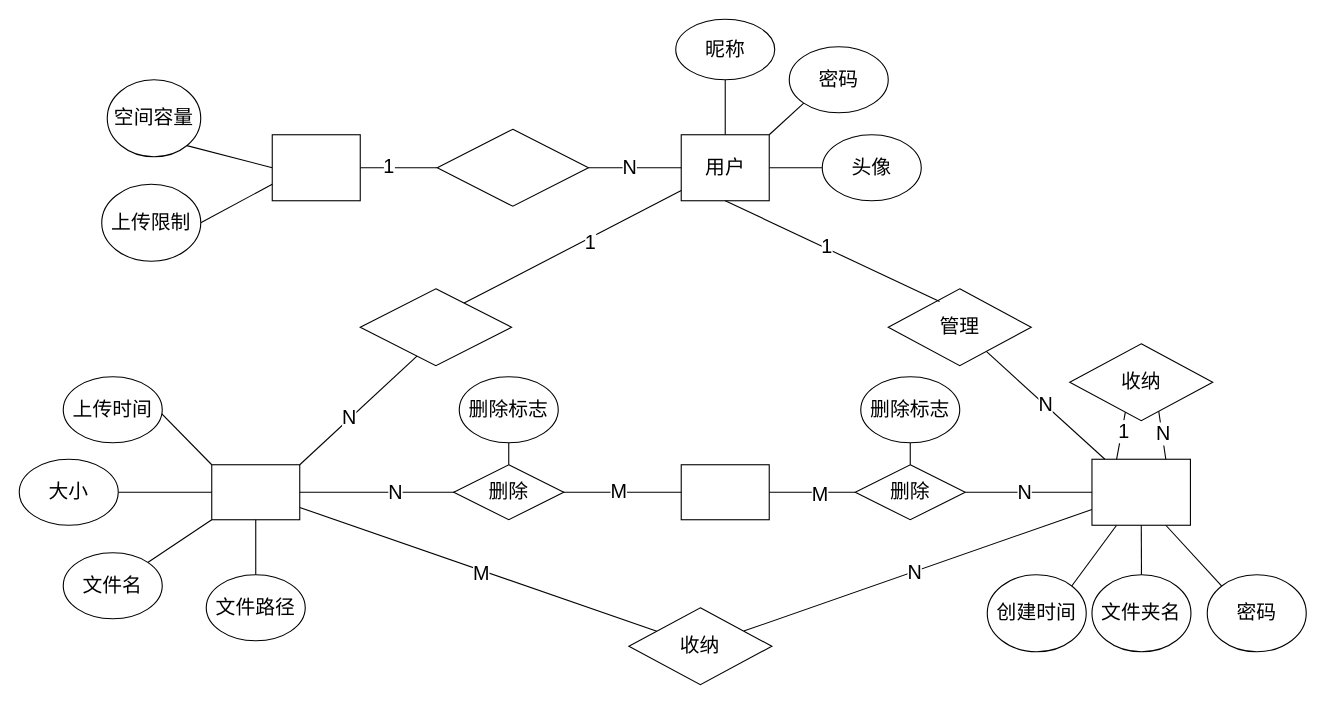
Some shapes in this 1326 by 704 pixel diagram are drawn without their labels. Here are the shapes that lost their labels. From the top down, the box of each, then its label:
(271, 134, 360, 201): 等级
(436, 128, 588, 206): 限制
(359, 288, 512, 366): 功能操作
(211, 464, 300, 520): 文件
(680, 464, 769, 520): 回收站
(1091, 458, 1190, 525): 文件夹
